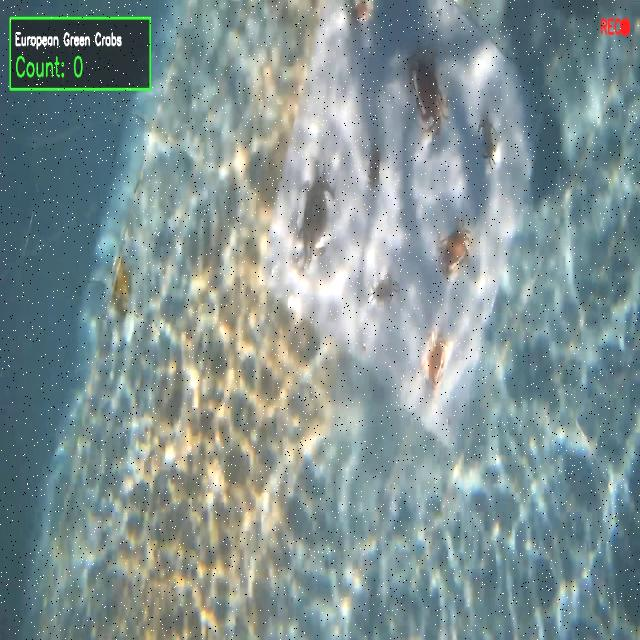European_Green_Crab: (289, 151, 343, 282), (364, 257, 404, 318), (475, 110, 505, 175)
